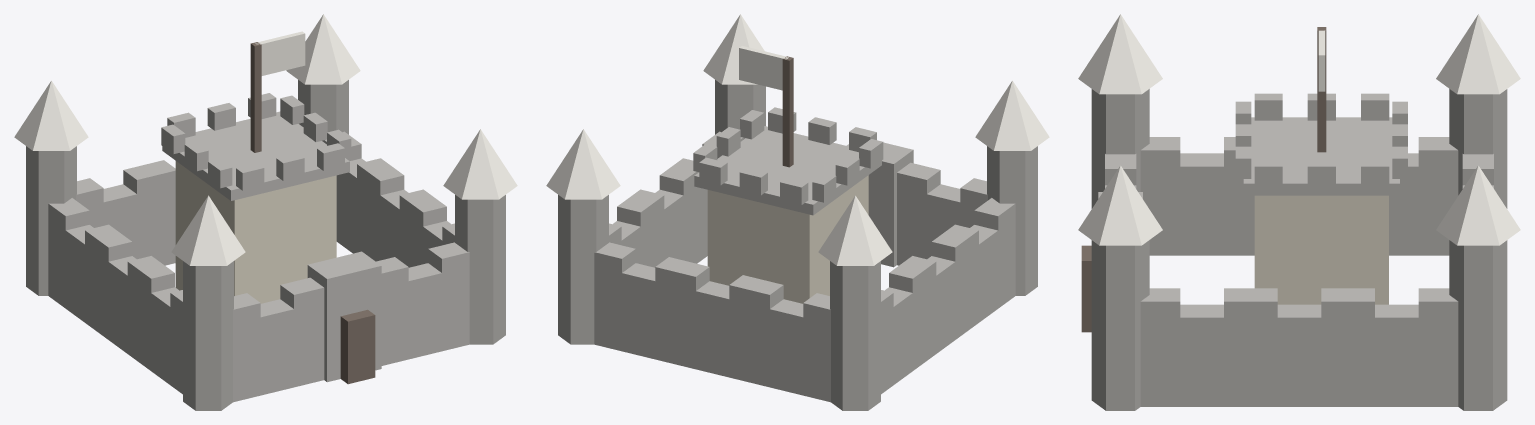
File: fort.glb
The picture shows the model from 3 angles, left to right: view 1: azimuth 30°, elevation 25°; view 2: azimuth 150°, elevation 25°; view 3: azimuth 270°, elevation 25°; orthographic projection. The views are drawn at different scales.
Visible parts, largest first — view 1: medieval_fort; view 2: medieval_fort; view 3: medieval_fort.
Boxes of the visible parts, <box> form: medieval_fort: <box>14,14,517,410</box>; medieval_fort: <box>546,14,1049,410</box>; medieval_fort: <box>1078,14,1520,410</box>.
Size of the model in its own units: 0.9645 by 0.73 by 0.99.
